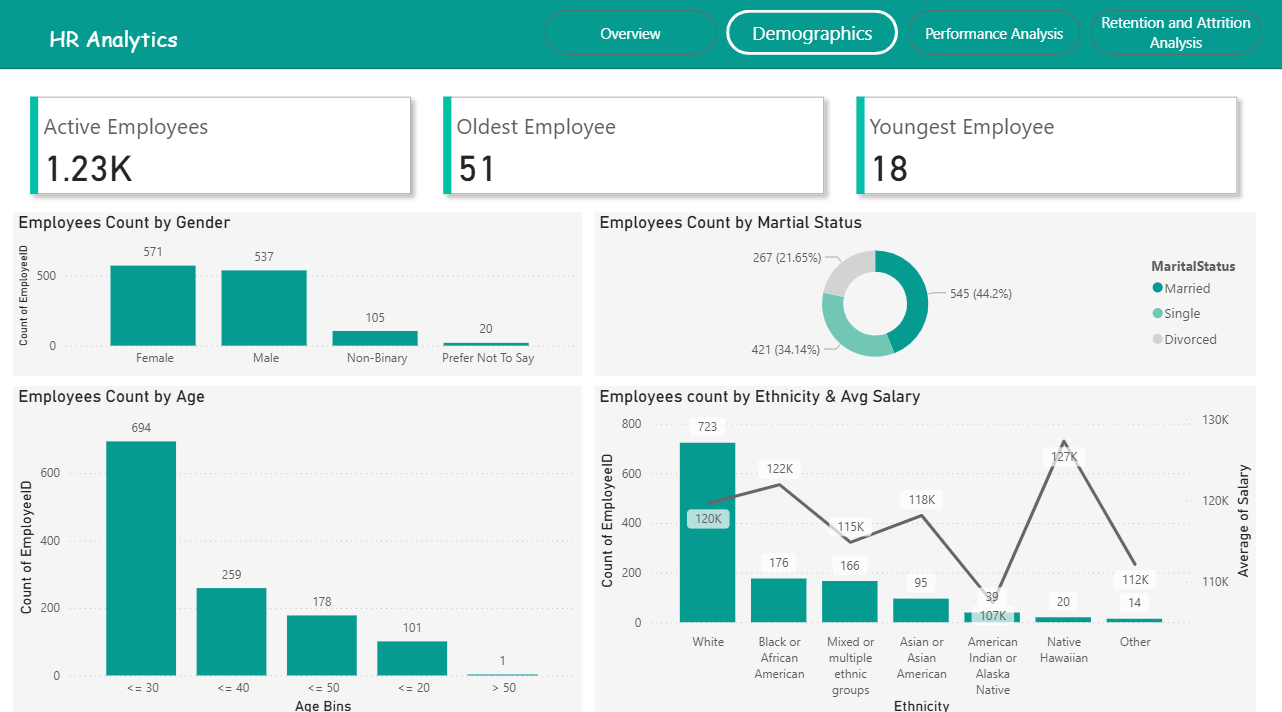

Layout of this report page (visuals, bound fields, positions):
{"tool":"powerbi","page":{"name":"Demographics","canvas":[1280,720],"ordinal":1},"visuals":[{"type":"shape","box":[0,0,1280.3,72.7],"z":0},{"type":"cardVisual","fields":{"Data":["_Measures.Active Employees","_Measures.Oldest Employee","_Measures.Youngest Employee"]},"box":[16.5,83.7,1236.4,131.7],"z":1000},{"type":"lineClusteredColumnComboChart","title":"Employees count by Ethnicity & Avg Salary","fields":{"Y":["Count(DimEmployee.EmployeeID)"],"Category":["DimEmployee.Ethnicity"],"Y2":["Avg(DimEmployee.Salary)"]},"box":[594.2,388.3,658.7,332.1],"z":2000},{"type":"columnChart","title":"Employees Count by Age","fields":{"Y":["CountNonNull(DimEmployee.EmployeeID)"],"Category":["DimEmployee.Age Bins"]},"box":[16.5,388.3,565.4,332.1],"z":3000},{"type":"donutChart","title":"Employees Count by Martial Status","fields":{"Category":["DimEmployee.MaritalStatus"],"Y":["CountNonNull(DimEmployee.EmployeeID)"]},"box":[594.6,215.2,658.1,163],"z":4000},{"type":"cardVisual","fields":{"Data":["_Measures.HR"]},"box":[28.8,0,171.5,72.7],"z":5000},{"type":"pageNavigator","box":[544.8,13.7,717.7,45.3],"z":6000},{"type":"clusteredColumnChart","title":"Employees Count by Gender","fields":{"Category":["DimEmployee.Gender"],"Y":["CountNonNull(DimEmployee.EmployeeID)"]},"box":[16.2,215.2,566,163],"z":8000}]}

Visuals, with their boxes in screenshot pixels (x1, y1, x2, y2), scaled from the page's 1280x720 canvas onto the 1282x712 screenshot:
shape: pyautogui.locateOnScreen(0, 0, 1281, 72)
cardVisual - _Measures.Active Employees x _Measures.Oldest Employee: pyautogui.locateOnScreen(17, 83, 1255, 213)
"Employees count by Ethnicity & Avg Salary" lineClusteredColumnComboChart: pyautogui.locateOnScreen(595, 384, 1255, 711)
"Employees Count by Age" columnChart: pyautogui.locateOnScreen(17, 384, 583, 711)
"Employees Count by Martial Status" donutChart: pyautogui.locateOnScreen(596, 213, 1255, 374)
cardVisual - _Measures.HR: pyautogui.locateOnScreen(29, 0, 201, 72)
pageNavigator: pyautogui.locateOnScreen(546, 14, 1264, 58)
"Employees Count by Gender" clusteredColumnChart: pyautogui.locateOnScreen(16, 213, 583, 374)
